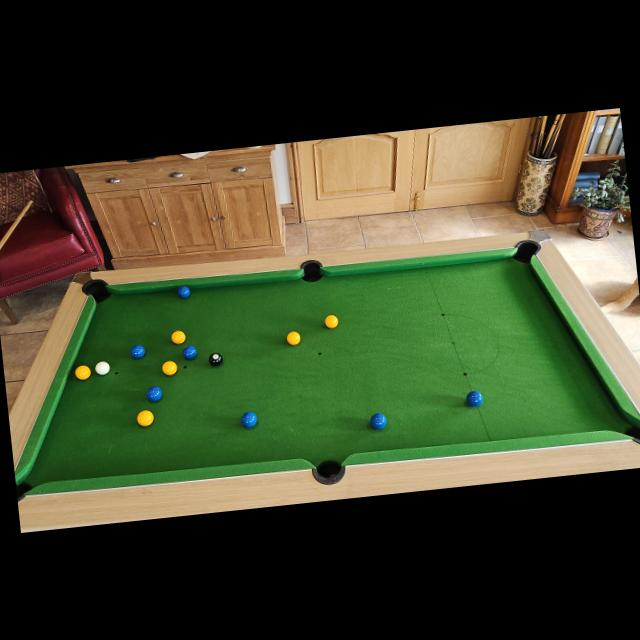Ball: (368, 411, 388, 430), (464, 390, 484, 408), (136, 409, 154, 427), (146, 386, 162, 402), (170, 328, 186, 344), (74, 364, 90, 380), (94, 360, 110, 376), (241, 411, 257, 427), (182, 344, 197, 360), (130, 344, 145, 359), (324, 314, 338, 330), (286, 330, 300, 346), (162, 360, 176, 376), (208, 352, 223, 366), (177, 286, 190, 298)
